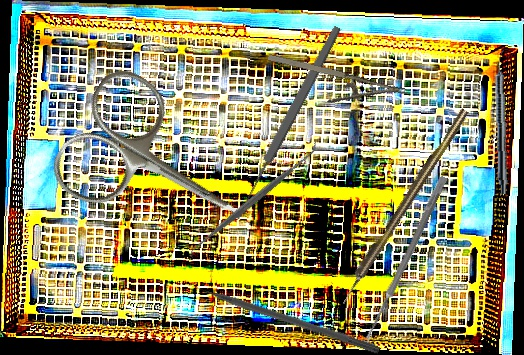Handpiece: (492, 50, 512, 195)
Hook Surgical: (336, 107, 471, 306)
Iris Scissors: (43, 60, 270, 272)
Needle Holder: (261, 49, 409, 123)
Pusher: (179, 276, 382, 355)
Spatula Surgical: (181, 138, 327, 261)
Surgical Spoon: (230, 24, 344, 221), (359, 174, 448, 351)
